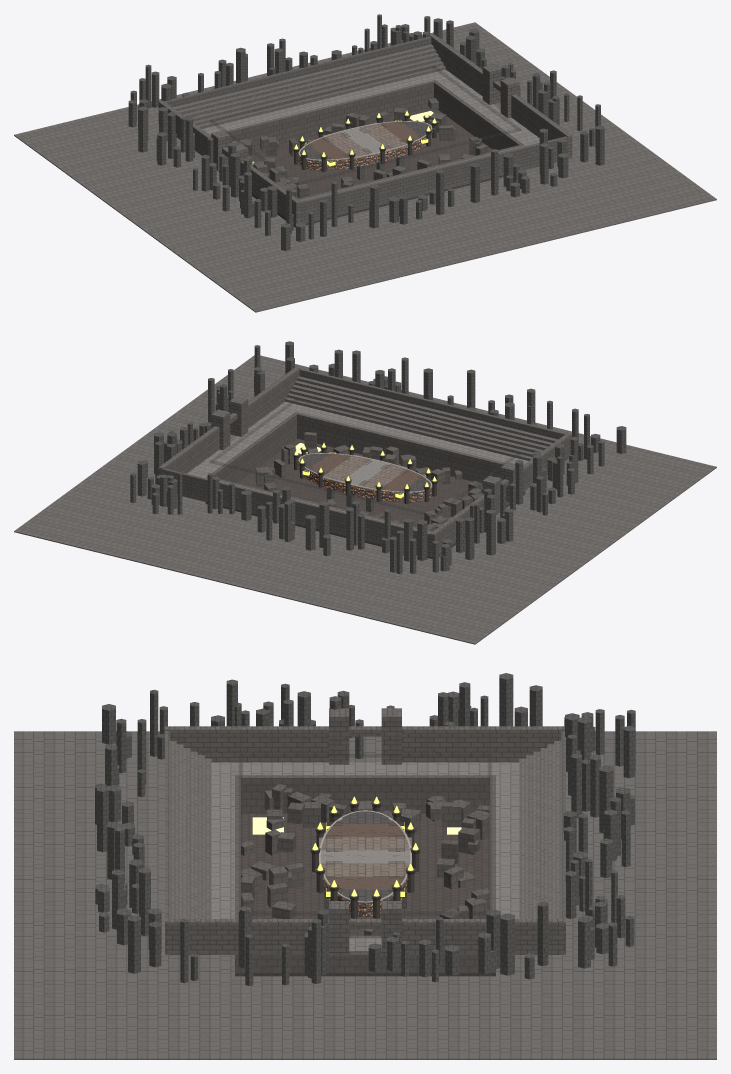
Rendered from arena_12x28.gltf.
3 renders of one model, top to bottom at view 1: azimuth 30°, elevation 25°; view 2: azimuth 150°, elevation 25°; view 3: azimuth 270°, elevation 25°, orthographic. The views are drawn at different scales.
Parts seen in each view (by area): view 1: walk, basalt, tank, tiers, back, end_walls, floor, rim, lantern_posts, face, deck_s1_z1, deck_s0_z1 (+2 smaller); view 2: walk, basalt, tank, tiers, end_walls, back, floor, rim, lantern_posts, face, deck_s1_z1, deck_s0_z1 (+1 smaller); view 3: walk, basalt, end_walls, tank, tiers, floor, rim, lantern_posts, back, deck_s0_z1, deck_neutral, deck_s1_z1 (+3 smaller).
Part boxes in pixels (x1,y1,x2,y2): walk: (14, 22, 716, 312); basalt: (128, 14, 604, 250); tank: (210, 80, 524, 225); tiers: (173, 44, 557, 223); back: (164, 36, 567, 223); end_walls: (158, 34, 572, 224); floor: (218, 107, 503, 227); rim: (210, 66, 520, 184); lantern_posts: (292, 113, 438, 171); face: (298, 122, 432, 170); deck_s1_z1: (359, 122, 408, 150); deck_s0_z1: (323, 132, 371, 159); walk: (14, 355, 716, 644); basalt: (130, 341, 626, 574); tank: (206, 412, 525, 557); tiers: (177, 376, 557, 556); end_walls: (158, 366, 572, 556); back: (163, 368, 566, 555); floor: (205, 438, 525, 558); rim: (210, 398, 520, 516); lantern_posts: (292, 445, 438, 503); face: (298, 454, 432, 502); deck_s1_z1: (322, 454, 371, 482); deck_s0_z1: (359, 464, 407, 491); walk: (14, 731, 716, 1059); basalt: (95, 673, 635, 985); end_walls: (165, 708, 565, 957); tank: (235, 775, 495, 973); tiers: (169, 741, 561, 954); floor: (235, 813, 495, 976); rim: (239, 754, 491, 915); lantern_posts: (310, 801, 420, 918); back: (165, 731, 565, 918); deck_s0_z1: (319, 837, 411, 850); deck_neutral: (319, 850, 411, 863); deck_s1_z1: (319, 863, 411, 876).
Size of the model in its own units: 99.6 by 14.76 by 90.4.
Materials: 20 (20 with a texture image).
